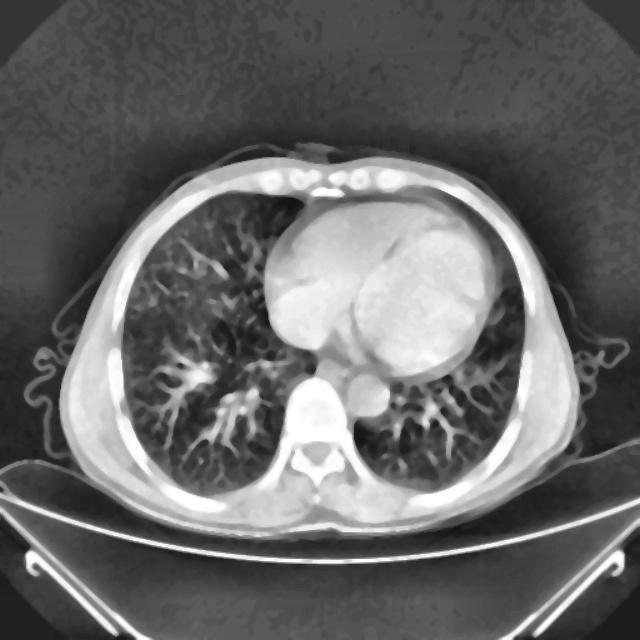covid: (58, 145, 583, 539)
